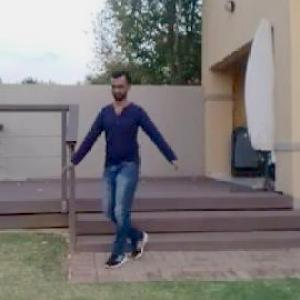land: (70, 78, 188, 271)
